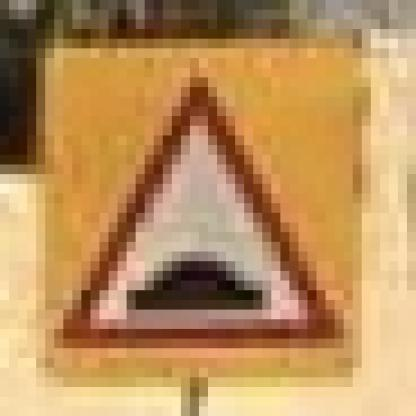Speed Breaker Ahead: (38, 39, 365, 383)
